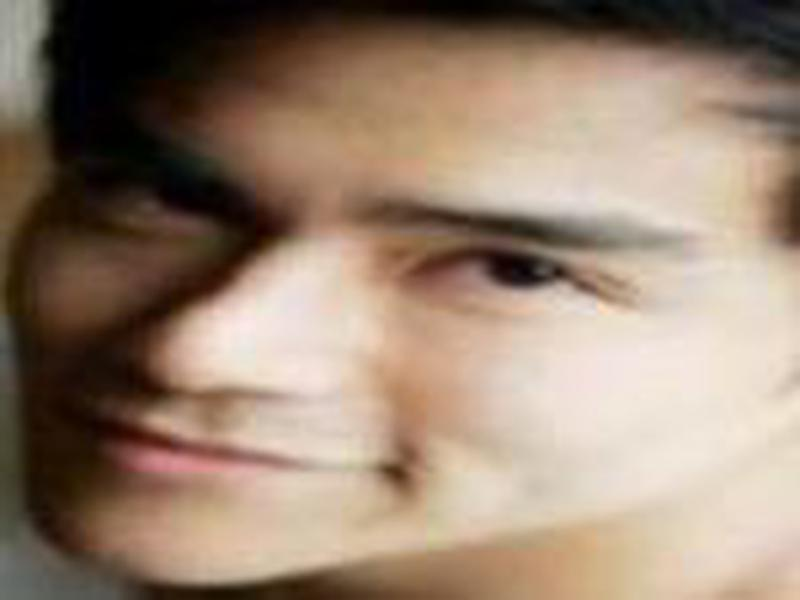without_mask: (16, 78, 736, 585)
